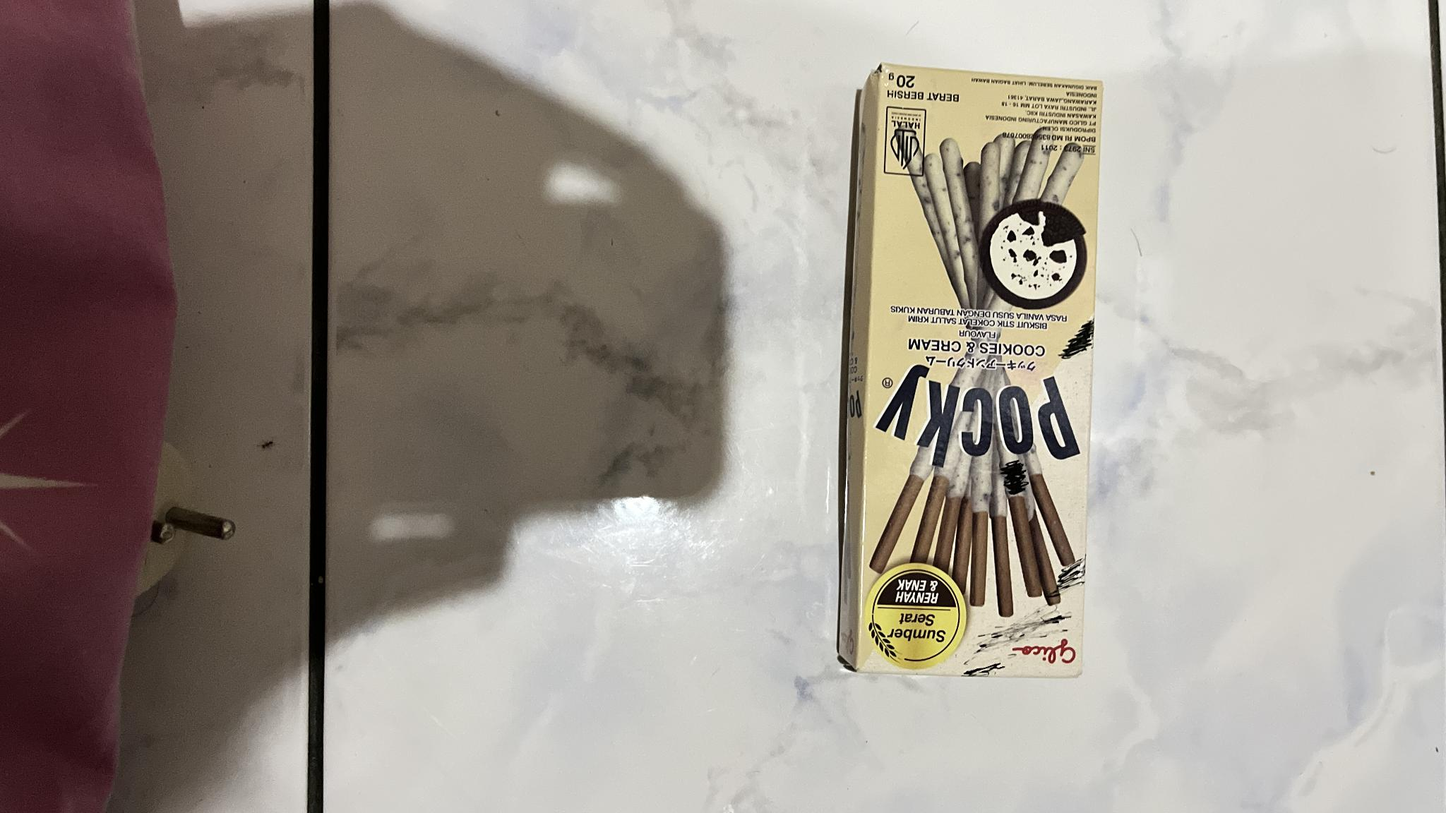Kertas: (850, 59, 1106, 676)
